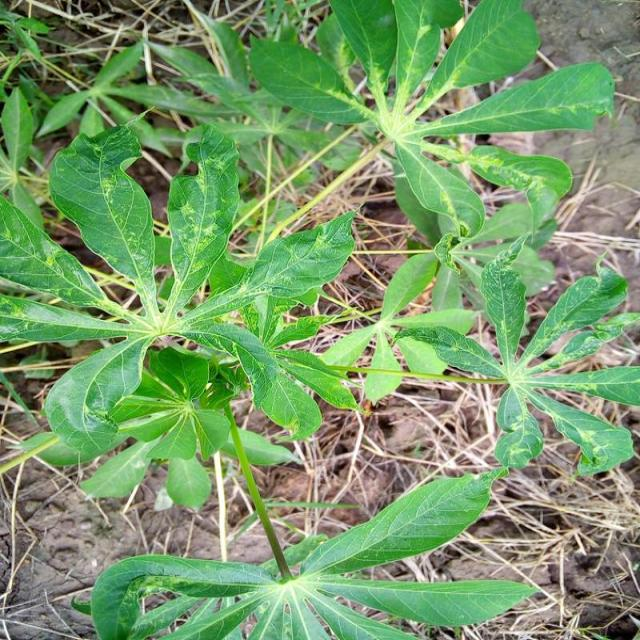cassava leaf: (1, 119, 361, 508), (78, 466, 540, 638)
